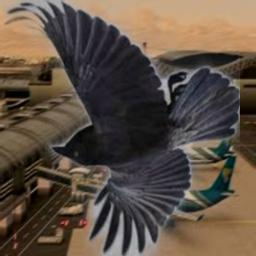Crow: (2, 0, 240, 256)
